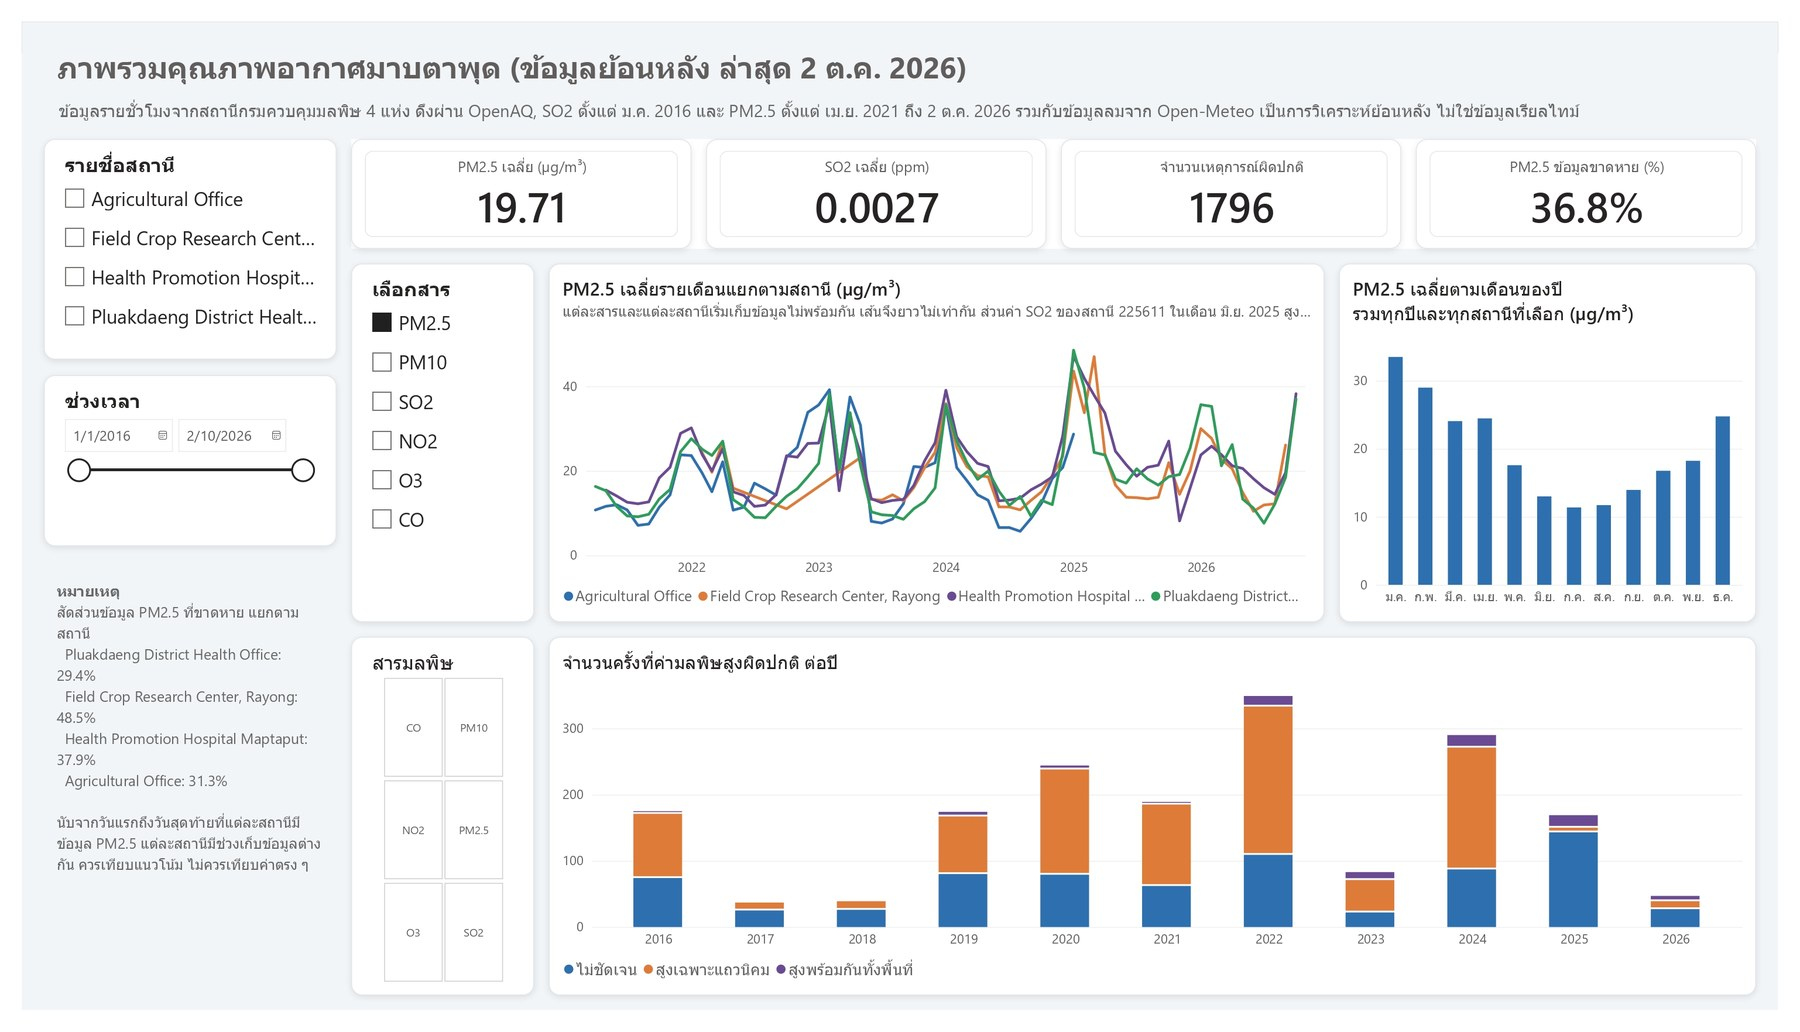

What the dashboard file says about the page in this screenshot:
{"tool":"powerbi","page":{"name":"ภาพรวม","canvas":[1920,1080],"ordinal":0},"visuals":[{"type":"textbox","box":[25,15,1872.5,79],"z":0},{"type":"cardVisual","fields":{"Data":["hourly.PM2.5 เฉลี่ย"]},"box":[360.1,128.4,372,120],"z":0,"group":"g1"},{"type":"slicer","title":"รายชื่อสถานี","fields":{"Values":["stations.station_name"]},"box":[24,128,320.2,241.1],"z":1000},{"type":"cardVisual","fields":{"Data":["hourly.SO2 เฉลี่ย"]},"box":[748.1,128.4,372,120],"z":1000,"group":"g1"},{"type":"cardVisual","fields":{"Data":["hourly.PM2.5 หาย %"]},"box":[1524.1,128.4,372,120],"z":2000,"group":"g1"},{"type":"slicer","fields":{"Values":["date.Date"]},"box":[24,385.7,320.2,187.7],"z":2000},{"type":"textbox","box":[24,597.3,320.2,467.5],"z":3000},{"type":"cardVisual","fields":{"Data":["episodes.จำนวนเหตุการณ์"]},"box":[1136.1,128.4,372,120],"z":4000,"group":"g1"},{"type":"columnChart","title":"จำนวนครั้งที่ค่ามลพิษสูงผิดปกติ ต่อปี","fields":{"Category":["date.Year"],"Series":["episodes.label_group"],"Y":["episodes.จำนวนเหตุการณ์"]},"box":[576.1,672.4,1320,392],"z":4000},{"type":"textbox","box":[26,72,1880,50],"z":5000},{"type":"group","id":"g1","title":"Group 1","box":[360.1,128.4,1536,120],"z":6000},{"type":"slicer","fields":{"Values":["episodes.pollutant_name"]},"box":[360.1,672.4,200,392],"z":7000},{"type":"slicer","fields":{"Values":["pollutant_list.สาร"]},"box":[360.1,264.4,200,392],"z":8000},{"type":"lineChart","fields":{"Category":["date.MonthStart"],"Series":["stations.station_name"],"Y":["hourly.ค่าเฉลี่ยสารที่เลือก"]},"box":[576.1,264.4,848,392],"z":9000},{"type":"columnChart","fields":{"Category":["date.เดือน"],"Y":["hourly.ค่าเฉลี่ยสารที่เลือก"]},"box":[1440.1,264.4,456,392],"z":10000}]}

Visuals, with their boxes in screenshot pixels (x1, y1, x2, y2), scaled from the page's 1920x1080 canvas onto the 1800x1032 screenshot:
textbox: (23, 14, 1779, 90)
cardVisual - hourly.PM2.5 เฉลี่ย: (338, 123, 686, 237)
"รายชื่อสถานี" slicer: (22, 122, 323, 353)
cardVisual - hourly.SO2 เฉลี่ย: (701, 123, 1050, 237)
cardVisual - hourly.PM2.5 หาย %: (1429, 123, 1778, 237)
slicer - date.Date: (22, 369, 323, 548)
textbox: (22, 571, 323, 1017)
cardVisual - episodes.จำนวนเหตุการณ์: (1065, 123, 1414, 237)
"จำนวนครั้งที่ค่ามลพิษสูงผิดปกติ ต่อปี" columnChart: (540, 643, 1778, 1017)
textbox: (24, 69, 1787, 117)
"Group 1" group: (338, 123, 1778, 237)
slicer - episodes.pollutant_name: (338, 643, 525, 1017)
slicer - pollutant_list.สาร: (338, 253, 525, 627)
lineChart - date.MonthStart x stations.station_name: (540, 253, 1335, 627)
columnChart - date.เดือน x hourly.ค่าเฉลี่ยสารที่เลือก: (1350, 253, 1778, 627)
